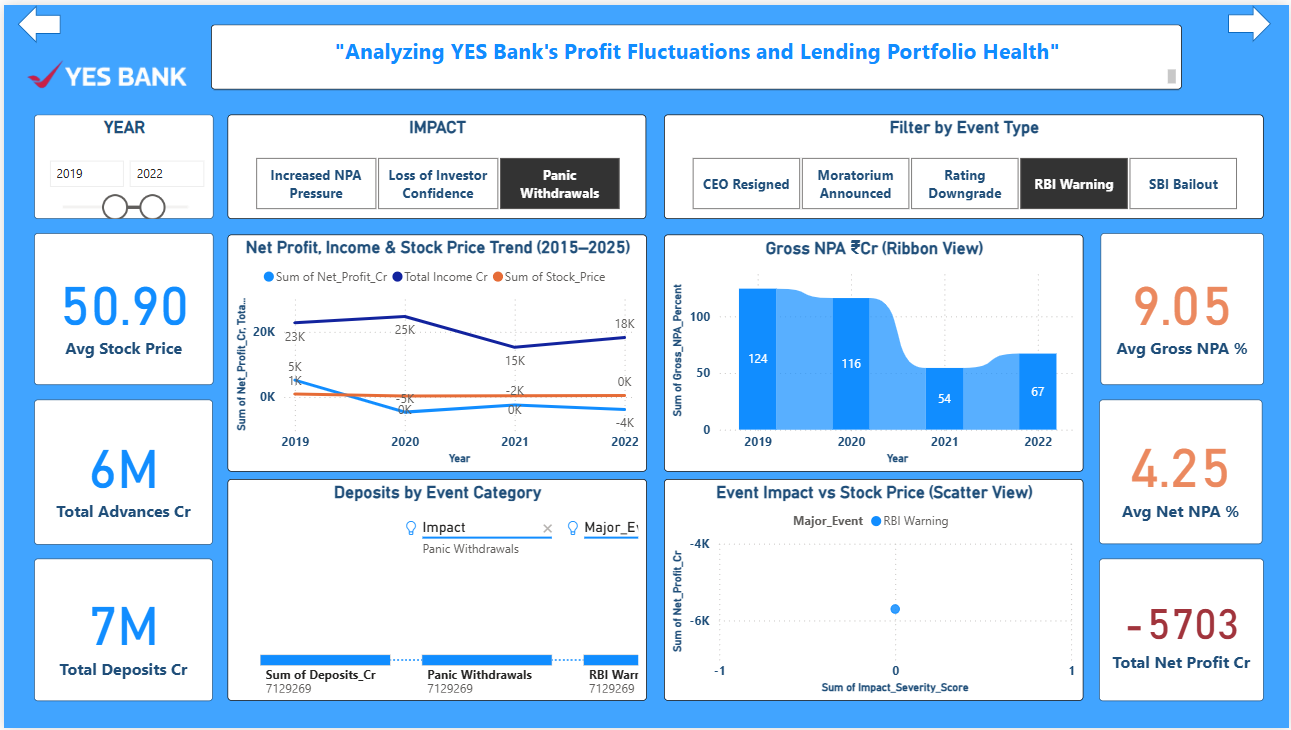

The dashboard page shown, as its layout file describes it:
{"tool":"powerbi","page":{"name":" Lending & Profitability Trends","canvas":[1280,720],"ordinal":3},"visuals":[{"type":"card","fields":{"Values":["Bank Data.Total Net Profit Cr"]},"box":[1089.5,550.8,163.8,142.1],"z":0},{"type":"card","fields":{"Values":["Bank Data.Total Advances Cr"]},"box":[30.4,391.8,178,144.9],"z":1000},{"type":"card","fields":{"Values":["Bank Data.Total Deposits Cr"]},"box":[30.4,550.5,178,142.1],"z":2000},{"type":"card","fields":{"Values":["Bank Data.Avg Net NPA %"]},"box":[1090,392.5,162.4,144],"z":3000},{"type":"card","fields":{"Values":["Bank Data.Avg Gross NPA %"]},"box":[1090.8,227.4,162.4,151.6],"z":4000},{"type":"slicer","title":"YEAR","fields":{"Values":["Bank Data.Year 1"]},"box":[29.8,109.6,178.6,104.2],"z":5000},{"type":"slicer","title":"IMPACT","fields":{"Values":["Bank Data.Impact"]},"box":[222,109.6,416.8,104.2],"z":6000},{"type":"slicer","title":"Filter by Event Type","fields":{"Values":["Bank Data.Major_Event"]},"box":[656.4,109.6,596.8,104.2],"z":7000},{"type":"lineChart","title":"Net Profit, Income & Stock Price Trend (2015–2025)","fields":{"Category":["Bank Data.Year"],"Y":["Sum(Bank Data.Net_Profit_Cr)","Bank Data.Total Income Cr","Sum(Bank Data.Stock_Price)"]},"box":[222.4,227.9,417.1,236.2],"z":8000},{"type":"ribbonChart","title":"\tGross NPA ₹Cr (Ribbon View)","fields":{"Category":["Bank Data.Year.Variation.Date Hierarchy.Year"],"Y":["Sum(Bank Data.Gross_NPA_Percent)"]},"box":[656,227.9,417.1,236.2],"z":9000},{"type":"scatterChart","title":"Event Impact vs Stock Price (Scatter View)","fields":{"X":["Sum(Bank Data.Impact_Severity_Score)"],"Y":["Sum(Bank Data.Net_Profit_Cr)"],"Series":["Bank Data.Major_Event"]},"box":[656,472.3,417.1,221],"z":10000},{"type":"decompositionTreeVisual","title":" Deposits by Event Category","fields":{"Analyze":["Sum(Bank Data.Deposits_Cr)"],"ExplainBy":["Bank Data.Impact","Bank Data.Major_Event"]},"box":[222.4,472.3,417.1,221],"z":11000},{"type":"card","fields":{"Values":["Bank Data.Avg Stock Price"]},"box":[29.8,227.4,178.6,151.6],"z":12000},{"type":"textbox","title":" \"Analyzing YES Bank''s Profit Fluctuations and Lending Portfolio Health\"","box":[205.9,19.1,966.2,64.7],"z":13000},{"type":"image","box":[0,0,209.3,139.5],"z":15000},{"type":"shape","box":[14,0,43,38.4],"z":16000},{"type":"shape","box":[1217.4,0,43,37.2],"z":17000}]}

Visuals, with their boxes in screenshot pixels (x1, y1, x2, y2), scaled from the page's 1280x720 canvas onto the 1291x730 screenshot:
card - Bank Data.Total Net Profit Cr: region(1099, 558, 1264, 703)
card - Bank Data.Total Advances Cr: region(31, 397, 210, 544)
card - Bank Data.Total Deposits Cr: region(31, 558, 210, 702)
card - Bank Data.Avg Net NPA %: region(1099, 398, 1263, 544)
card - Bank Data.Avg Gross NPA %: region(1100, 231, 1264, 384)
"YEAR" slicer: region(30, 111, 210, 217)
"IMPACT" slicer: region(224, 111, 644, 217)
"Filter by Event Type" slicer: region(662, 111, 1264, 217)
"Net Profit, Income & Stock Price Trend (2015–2025)" lineChart: region(224, 231, 645, 471)
"	Gross NPA ₹Cr (Ribbon View)" ribbonChart: region(662, 231, 1082, 471)
"Event Impact vs Stock Price (Scatter View)" scatterChart: region(662, 479, 1082, 703)
" Deposits by Event Category" decompositionTreeVisual: region(224, 479, 645, 703)
card - Bank Data.Avg Stock Price: region(30, 231, 210, 384)
" "Analyzing YES Bank''s Profit Fluctuations and Lending Portfolio Health"" textbox: region(208, 19, 1182, 85)
image: region(0, 0, 211, 141)
shape: region(14, 0, 57, 39)
shape: region(1228, 0, 1271, 38)
